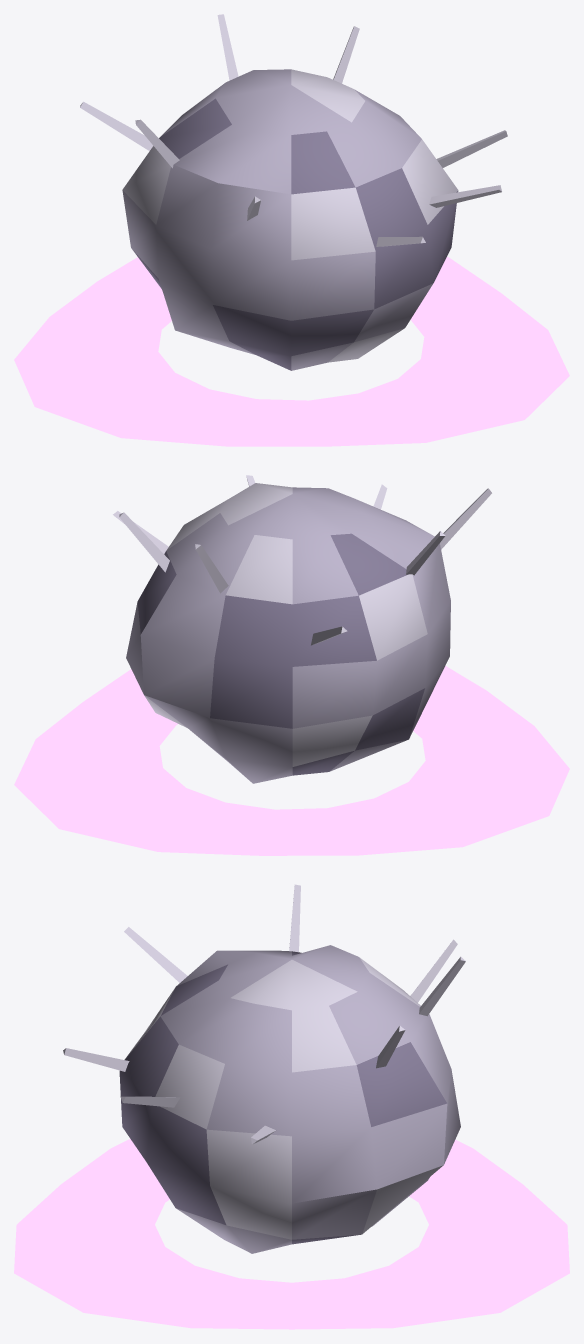
File: cosmic_lint.glb
3 views of the same model, one above another, from view 1: azimuth 30°, elevation 25°; view 2: azimuth 150°, elevation 25°; view 3: azimuth 270°, elevation 25° (orthographic). The views are drawn at different scales.
Parts seen in each view (by area): view 1: body; view 2: body; view 3: body.
Part boxes in pixels (x1=…): body: x1=14, y1=14, x2=569, y2=446; body: x1=14, y1=475, x2=569, y2=855; body: x1=14, y1=884, x2=569, y2=1329.
Size of the model in its own units: 180 by 98.88 by 182.
